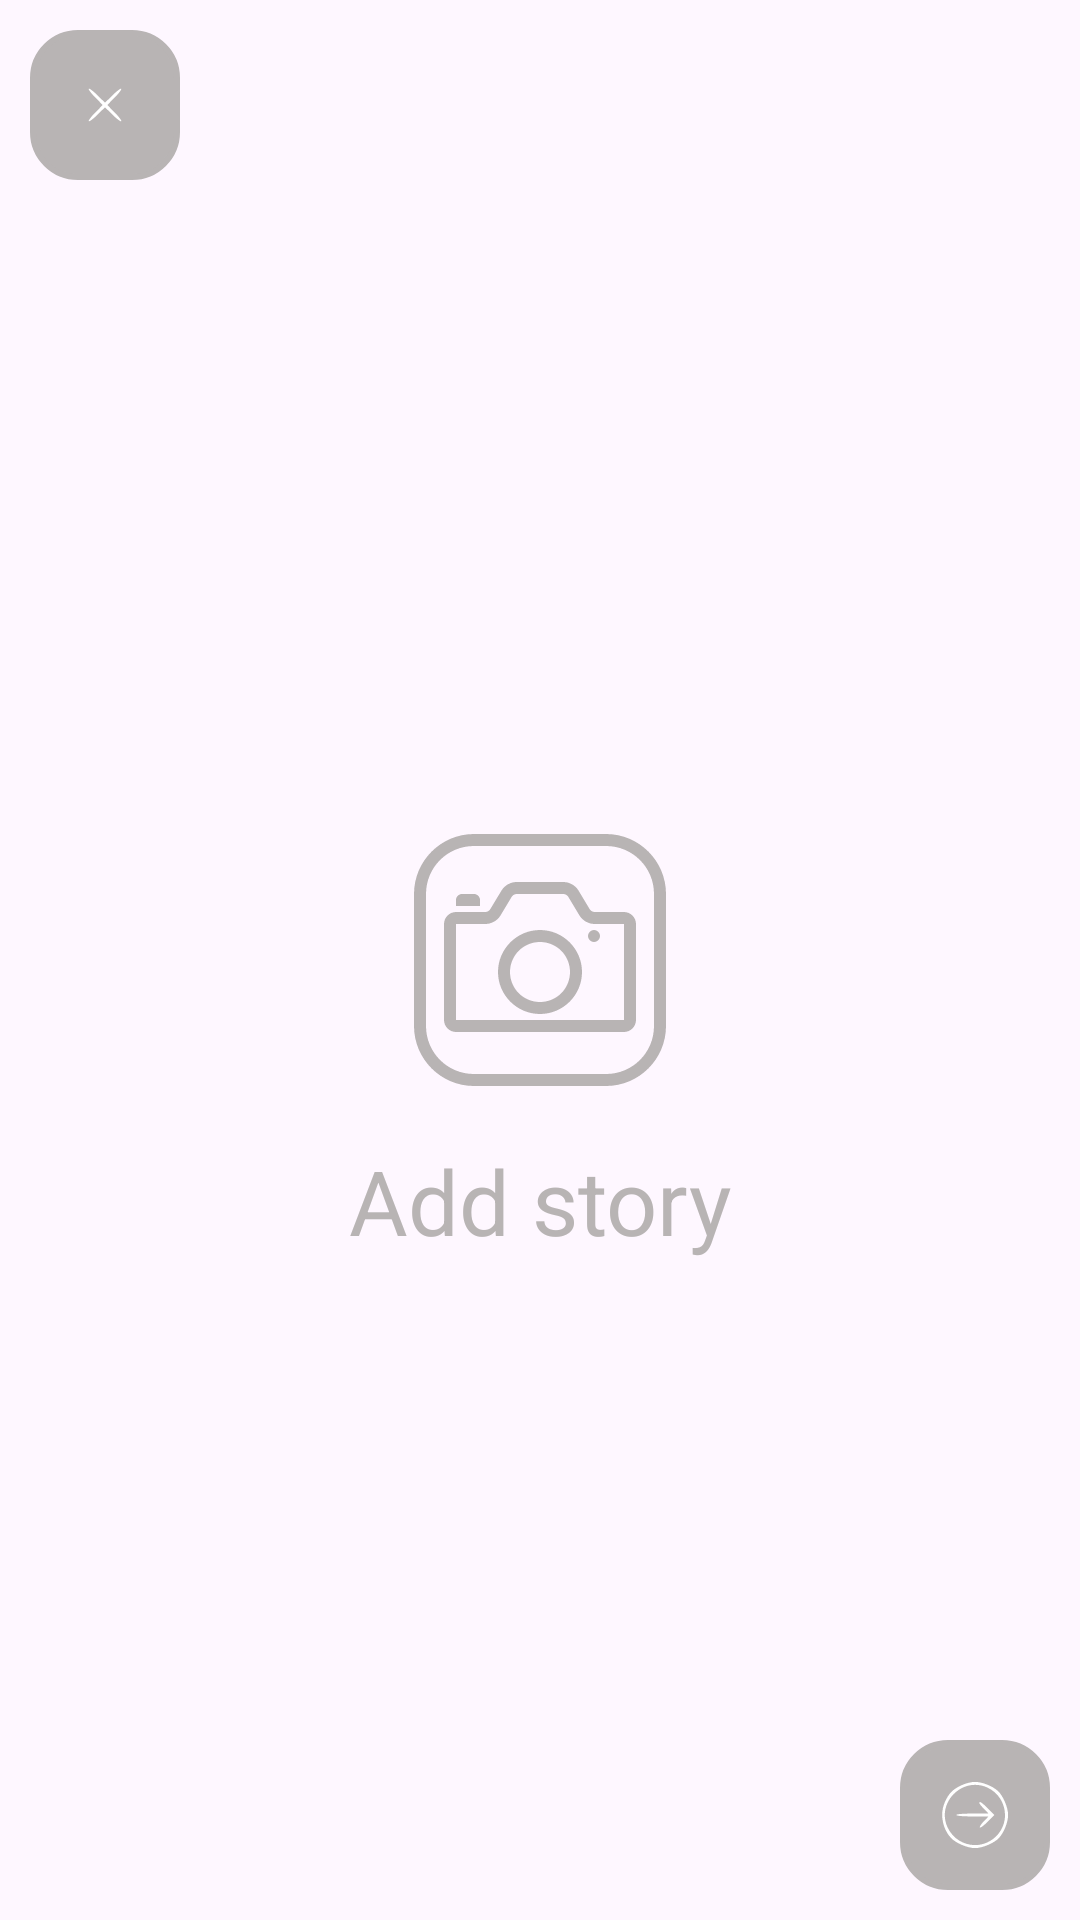

Named icons in this screenshot (1080x1920) and their bounding boxes, bbox(x1, y1, x2, y2):
camera: bbox(414, 834, 666, 1086)
cancel: bbox(30, 30, 180, 180)
next: bbox(900, 1740, 1050, 1890)
